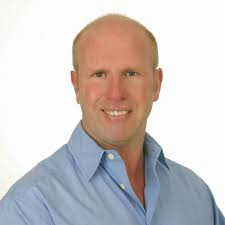white_male: (64, 43, 160, 155)
